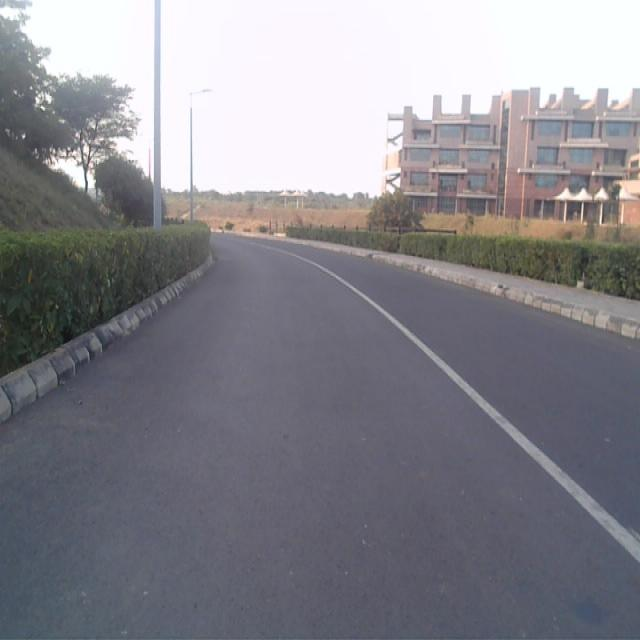lane: (0, 237, 640, 640)
